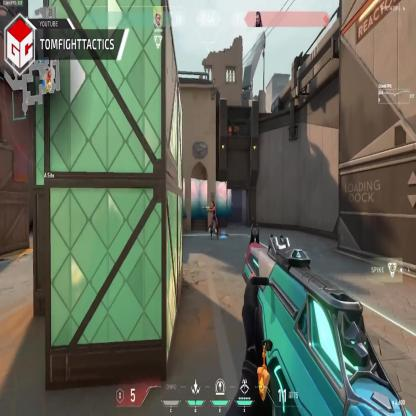enemy: (208, 202, 219, 239)
enemy_head: (211, 202, 214, 208)
